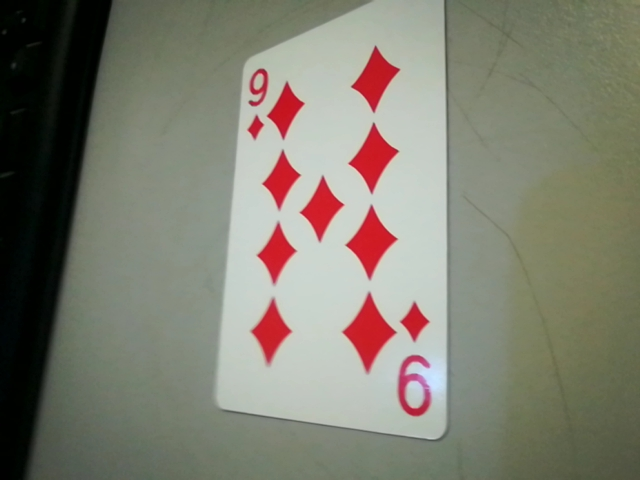fk 9: (388, 298, 443, 426)
